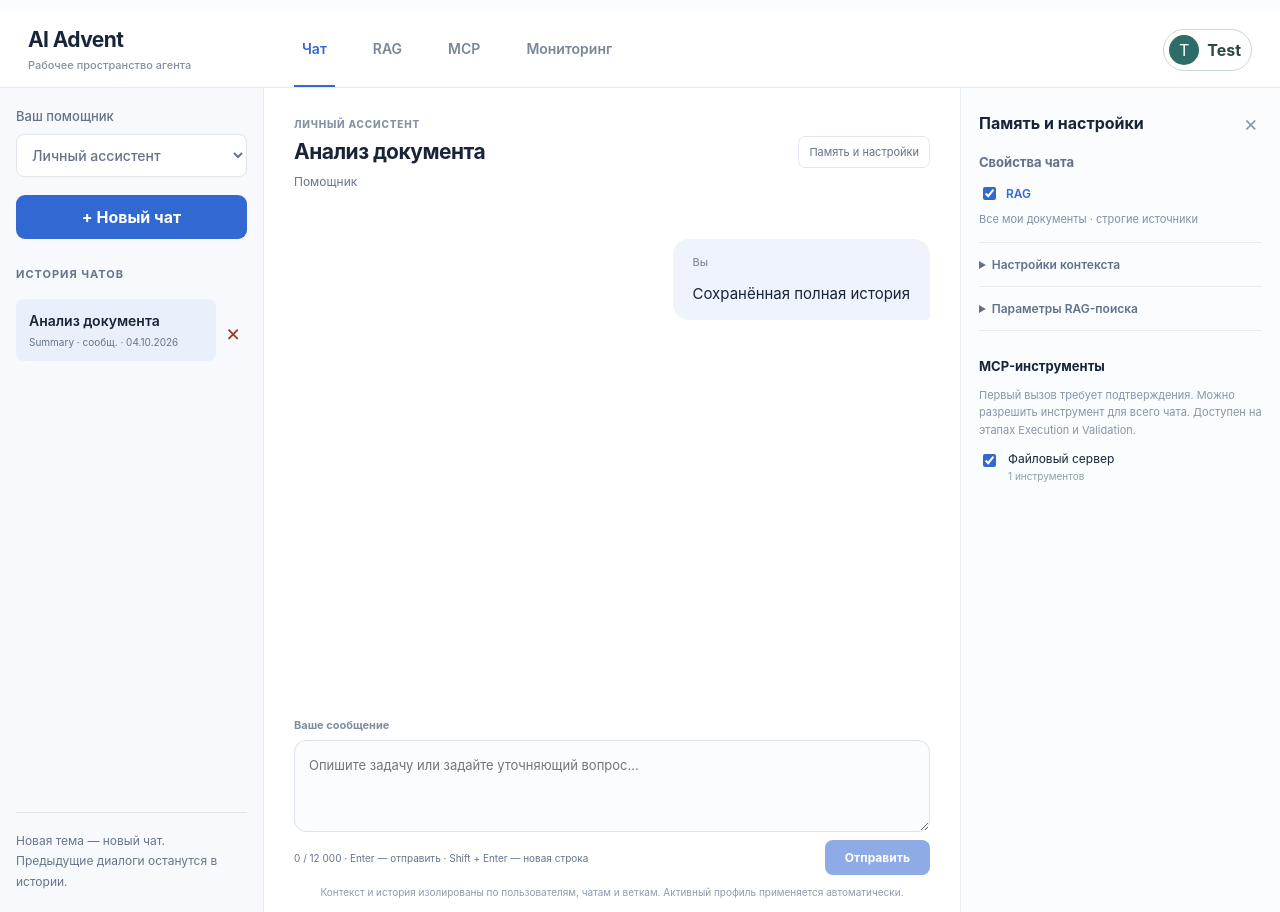
Test: explains missing files discovery without silently enabling a different filesystem server
expect the text "Сохранённая полная история" is shown: met, box [692,281,910,306]
Type "/files Найди API" into the text box labelled "Ваше сообщение" at point(612, 786), box [294,740,930,832]
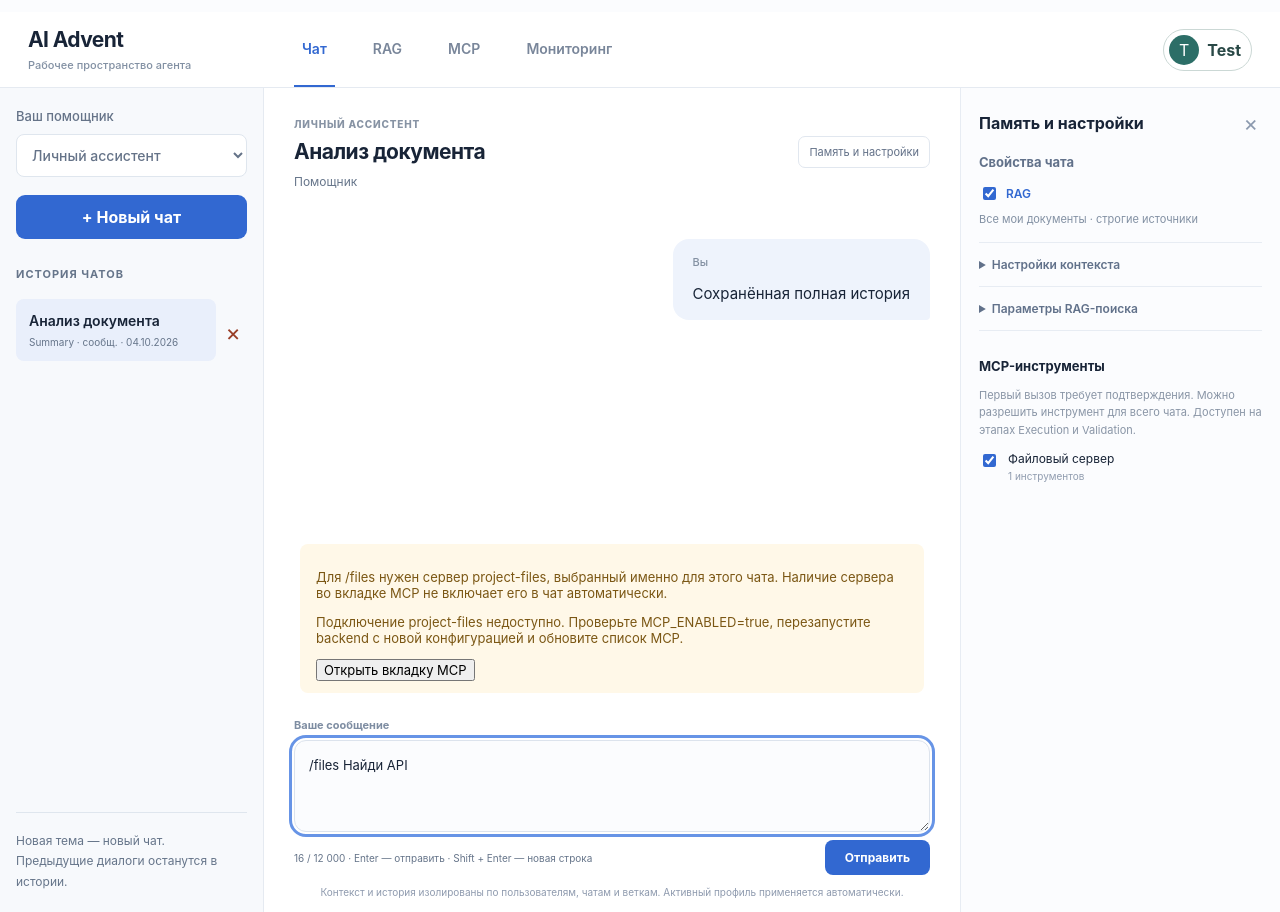
expect the text "Подключение project-files недоступно" is shown: met, box [316,614,871,646]
